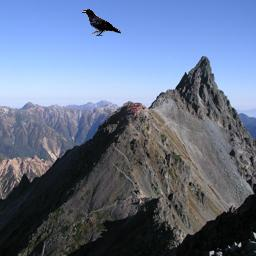Crow: (82, 9, 121, 36)
